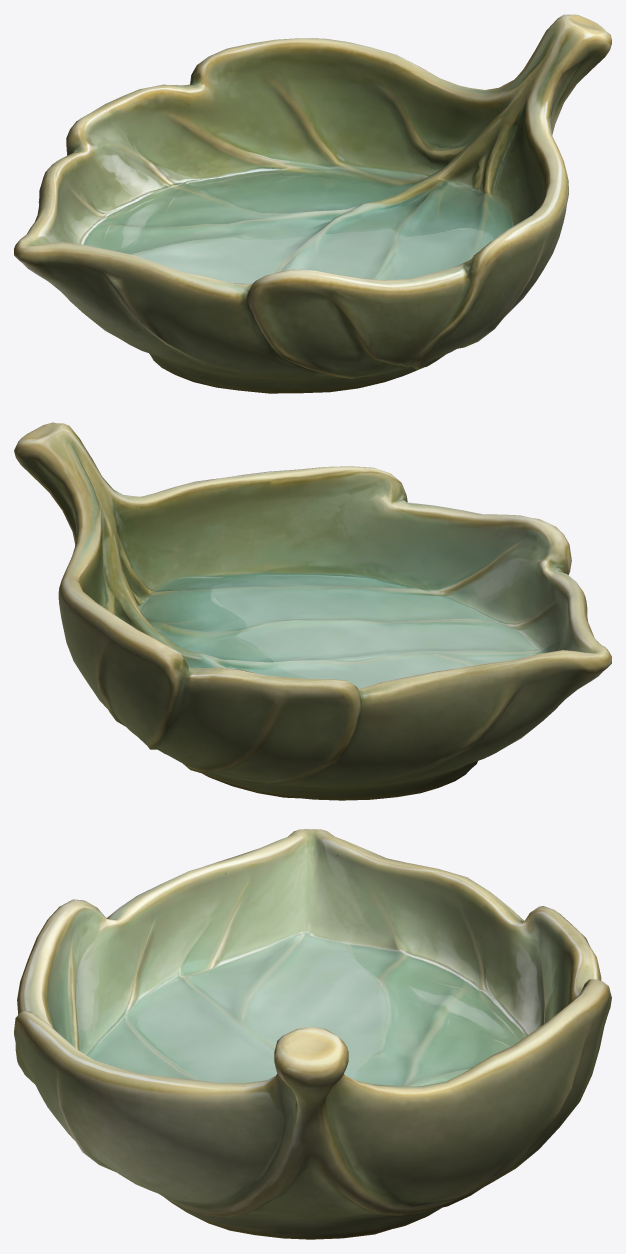
Rendered from leaf-bowl.glb.
3 renders of one model, top to bottom at view 1: azimuth 30°, elevation 25°; view 2: azimuth 150°, elevation 25°; view 3: azimuth 270°, elevation 25°, orthographic. The views are drawn at different scales.
Parts seen in each view (by area): view 1: tripo_node_782aa48b-b1de-42ea-97b4-899d499ab66f; view 2: tripo_node_782aa48b-b1de-42ea-97b4-899d499ab66f; view 3: tripo_node_782aa48b-b1de-42ea-97b4-899d499ab66f.
Boxes of the visible parts, x1=… form: tripo_node_782aa48b-b1de-42ea-97b4-899d499ab66f: x1=14, y1=14, x2=611, y2=393; tripo_node_782aa48b-b1de-42ea-97b4-899d499ab66f: x1=14, y1=422, x2=611, y2=800; tripo_node_782aa48b-b1de-42ea-97b4-899d499ab66f: x1=14, y1=829, x2=611, y2=1239.
Size of the model in its own units: 0.9771 by 0.3996 by 0.7515.
Materials: 1 (1 with a texture image).
